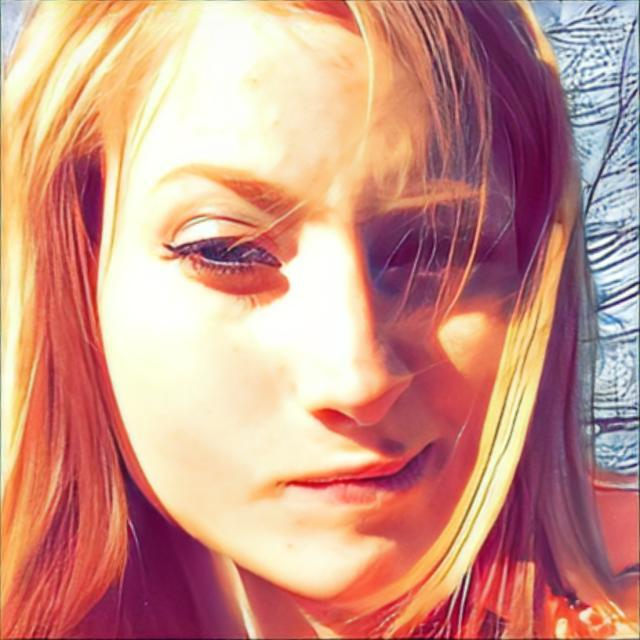content: (97, 1, 525, 604)
